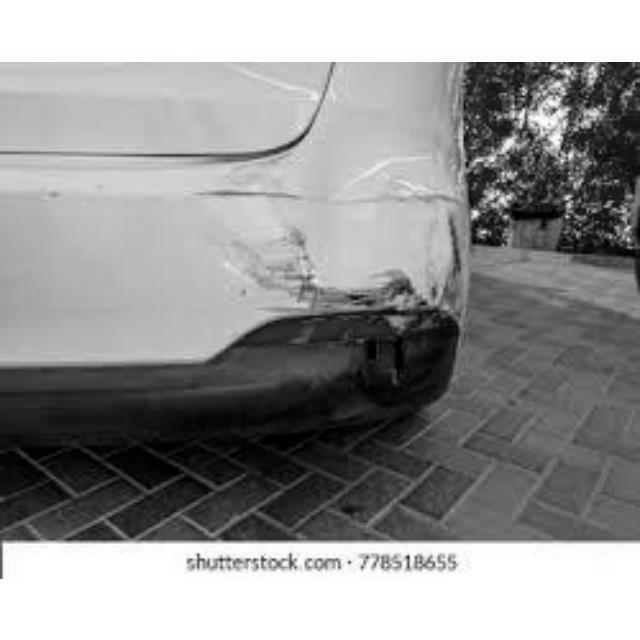rear-bumper-dent: (3, 141, 489, 414)
